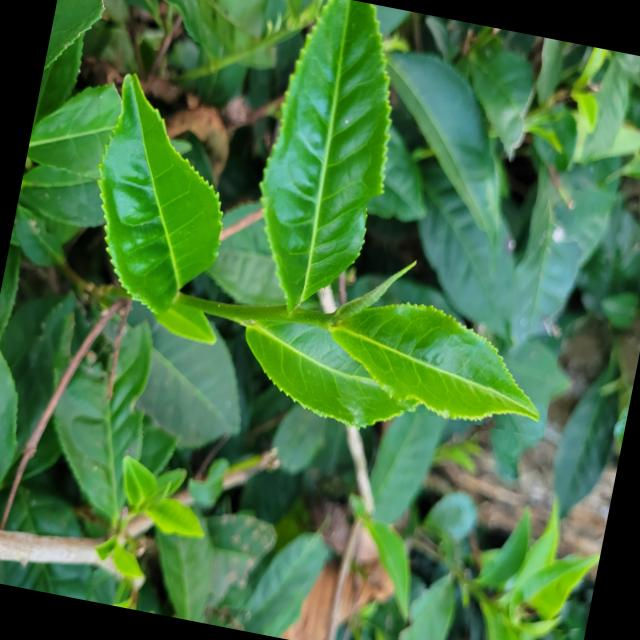Catagory A(1-2 days): (302, 277, 564, 437)
